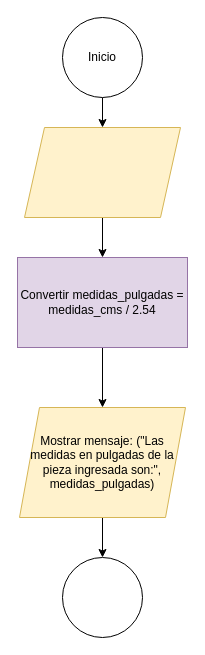
Some shapes in this 205 by 655 pixel diagram are drawn without their labels. The shapes that lost their labels are listed below. From the top down, each one's centre as x and y in pixels, then its label:
point 102,172: Mostrar mensaje: "Por favor, ingresar las medidas de los muebles en cms: "
point 102,597: Fin
